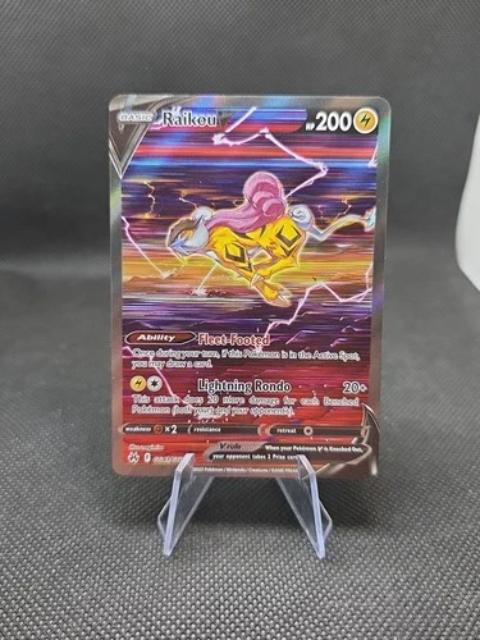Card: (105, 90, 393, 481)
Name: (152, 105, 228, 132)
